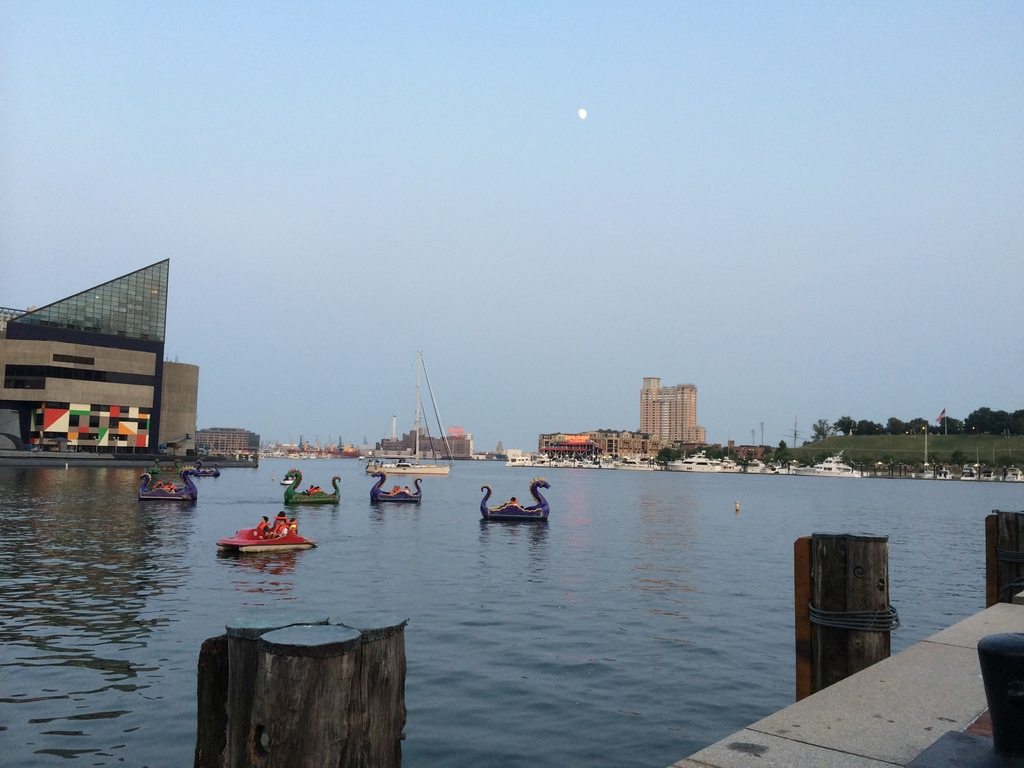boat: (361, 341, 466, 487), (666, 441, 750, 479), (790, 447, 872, 480)
